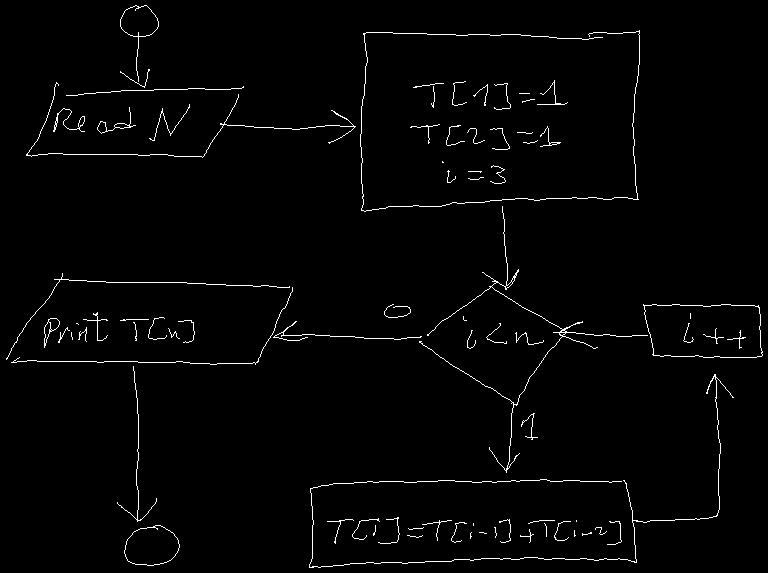arrow: (633, 374, 733, 522), (117, 366, 156, 521), (220, 110, 355, 143), (482, 206, 518, 289), (273, 321, 421, 340), (553, 321, 647, 348), (489, 402, 519, 472), (120, 32, 149, 87)
connection: (124, 525, 179, 565), (120, 5, 158, 36)
data: (6, 273, 292, 364), (26, 82, 243, 157)
decision: (419, 281, 567, 405)
process: (360, 30, 639, 211), (309, 479, 636, 567), (643, 304, 762, 357)
text: (410, 80, 567, 183), (327, 517, 621, 544), (44, 312, 194, 347), (53, 104, 189, 140), (463, 316, 543, 348), (683, 313, 745, 348), (521, 413, 537, 439), (384, 304, 410, 317)
